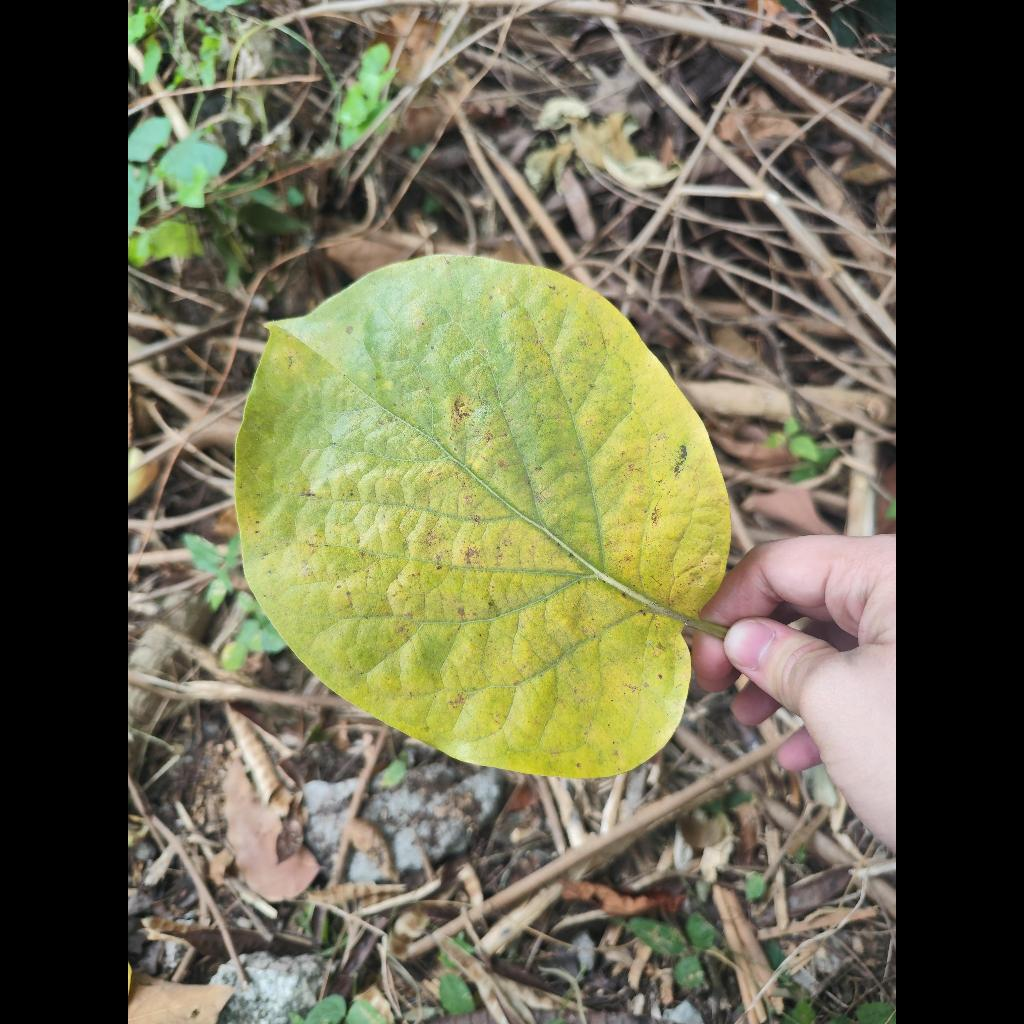nutrient_deficiency: (235, 255, 729, 777)
